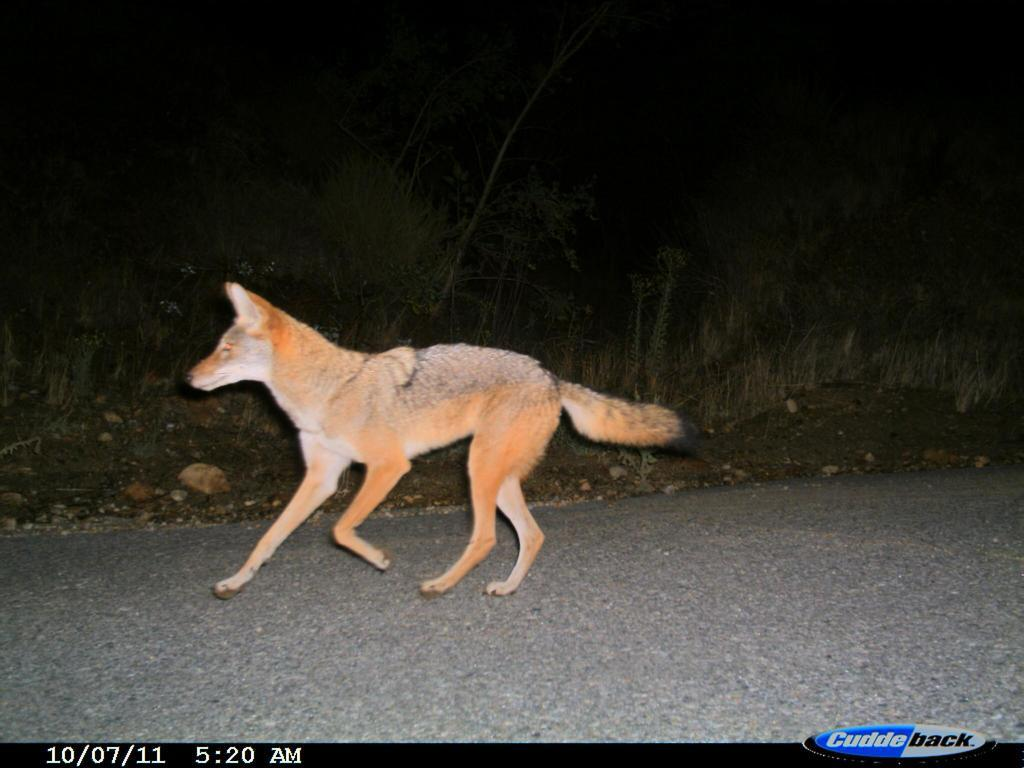coyote: (173, 274, 701, 611)
